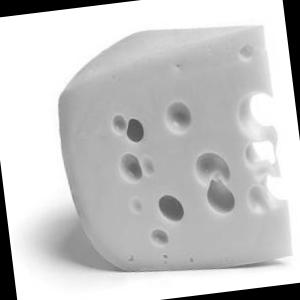cheese: (32, 11, 300, 297)
